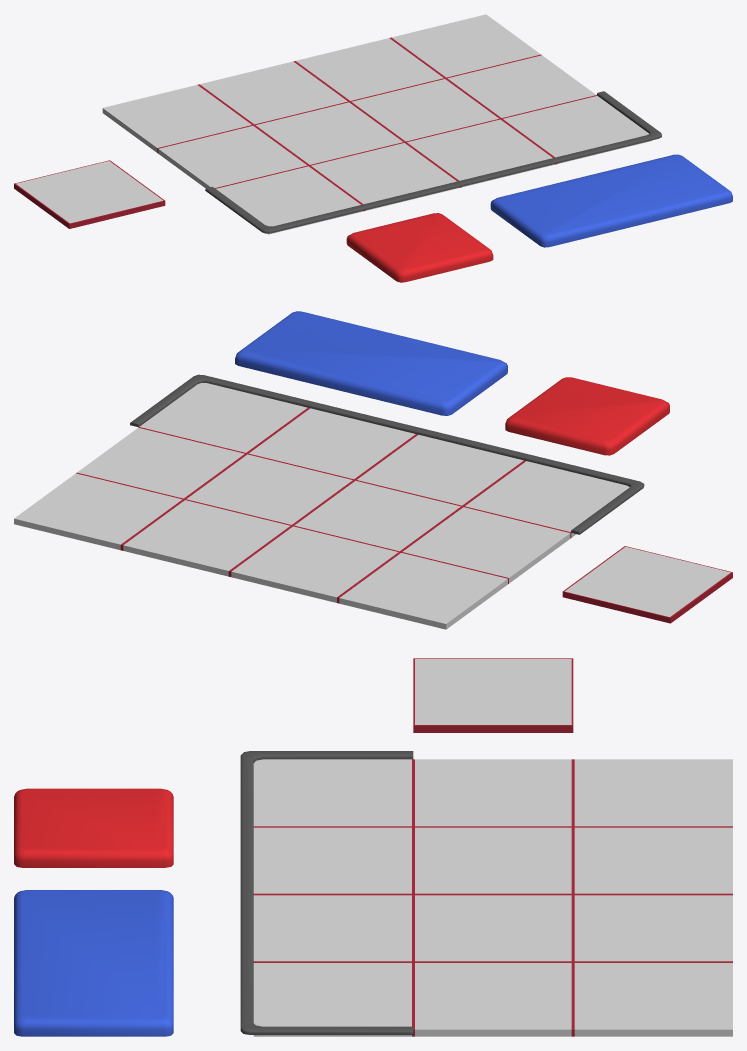
The model's file is puzzle_parts.fbx.
3 views of the same model, one above another, from view 1: azimuth 30°, elevation 25°; view 2: azimuth 150°, elevation 25°; view 3: azimuth 270°, elevation 25° (orthographic). The views are drawn at different scales.
Visible parts, largest first — view 1: 4x3_grid, 1x2, 1x1, 1x1_grid, corner_R, corncer_L, near_2m, near_1m; view 2: 4x3_grid, 1x2, 1x1, 1x1_grid, corner_R, corncer_L, near_2m, near_1m; view 3: 4x3_grid, 1x2, 1x1, 1x1_grid, corncer_L, corner_R, near_2m, near_1m.
Boxes of the visible parts, x1,y1,x2,y2 form: 4x3_grid: (102,14,652,234); 1x2: (490,154,732,247); 1x1: (346,213,493,282); 1x1_grid: (14,160,165,228); corner_R: (205,186,368,233); corncer_L: (557,91,661,162); near_2m: (429,157,560,193); near_1m: (365,188,432,209); 4x3_grid: (14,383,629,629); 1x2: (235,311,507,415); 1x1: (505,377,669,455); 1x1_grid: (562,546,732,623); corner_R: (525,454,644,534); corncer_L: (130,374,313,427); near_2m: (309,402,457,442); near_1m: (453,437,529,460); 4x3_grid: (253,759,732,1036); 1x2: (14,890,173,1036); 1x1: (14,788,173,867); 1x1_grid: (413,658,573,732); corncer_L: (240,958,413,1034); corner_R: (240,751,413,824); near_2m: (240,868,253,959); near_1m: (240,823,253,869).
Bounding box in the file's own units: 1116 × 20 × 900.
